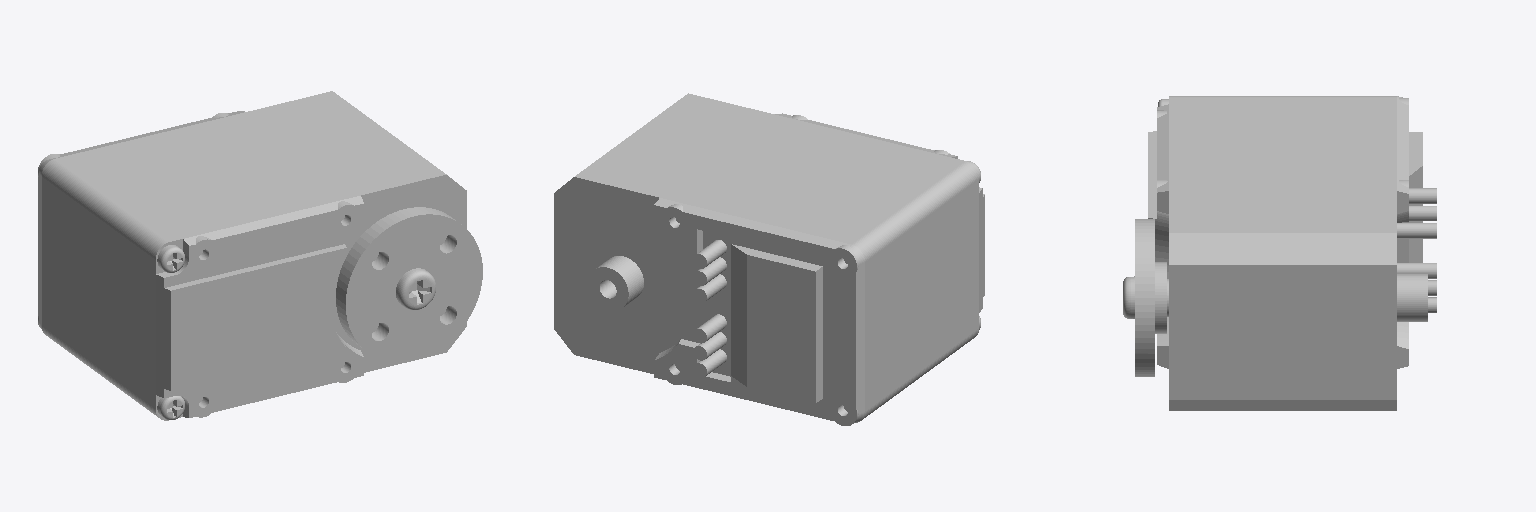
The model's file is wrist_visuals_sts3215_03a_no_horn_v1_mesh.obj.
The picture shows the model from 3 angles: view 1: azimuth 30°, elevation 25°; view 2: azimuth 150°, elevation 25°; view 3: azimuth 270°, elevation 25°; orthographic projection.
Size of the model in its own units: 0.0454 by 0.0248 by 0.0396.